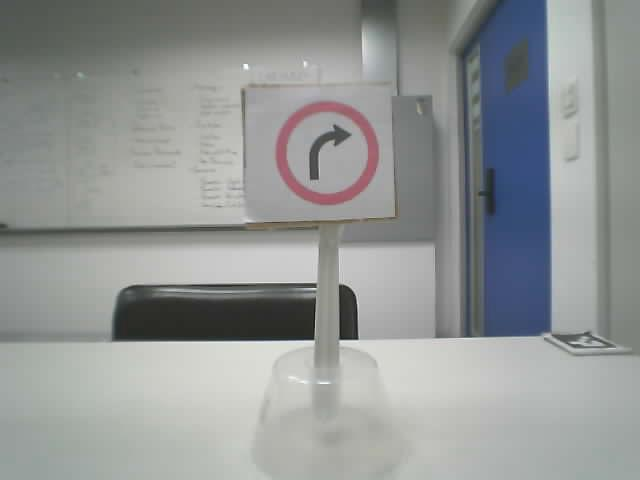R-25b_direita: (274, 99, 379, 205)
